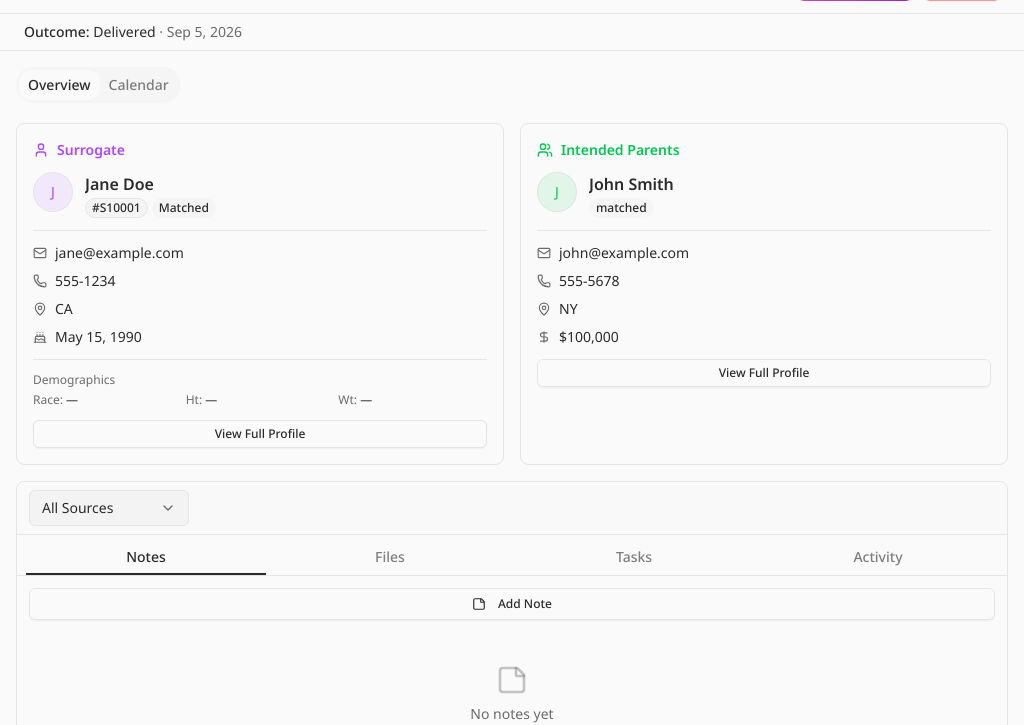
Test: MatchDetailPage › offers case work creation on a completed match for postpartum work
Check: the button "Add Note" is shown, box [29,588,995,620]
Click the tab "Files". click: (390, 557)
box: [270,542,510,572]
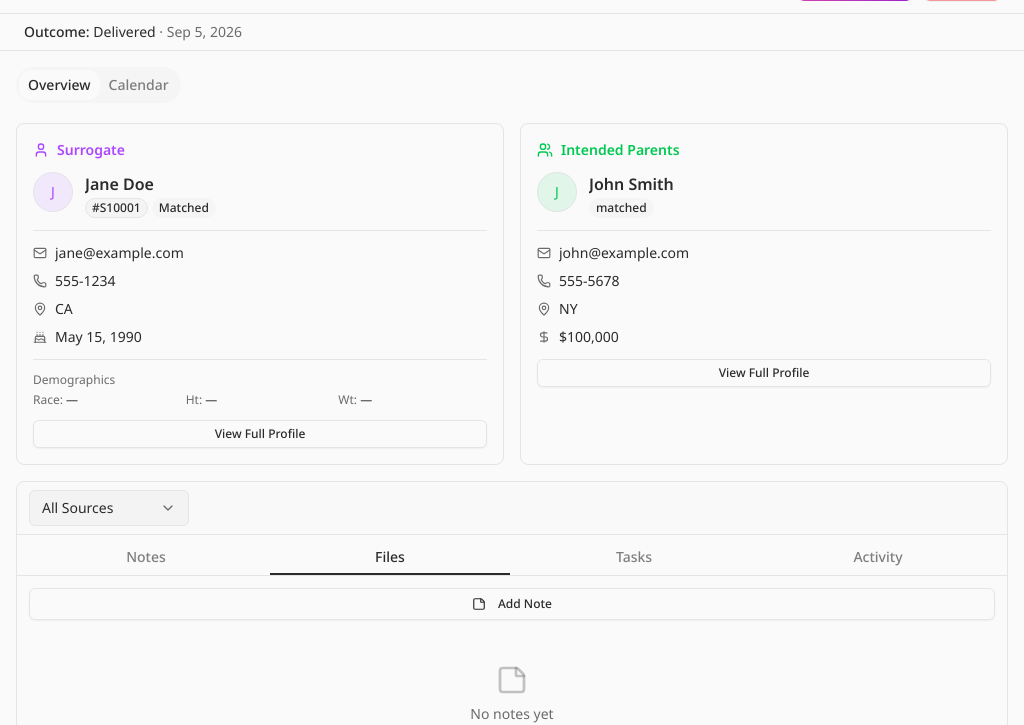
Click the tab "Tasks". click: (634, 557)
box: [514,542,754,572]
(page scrolled)
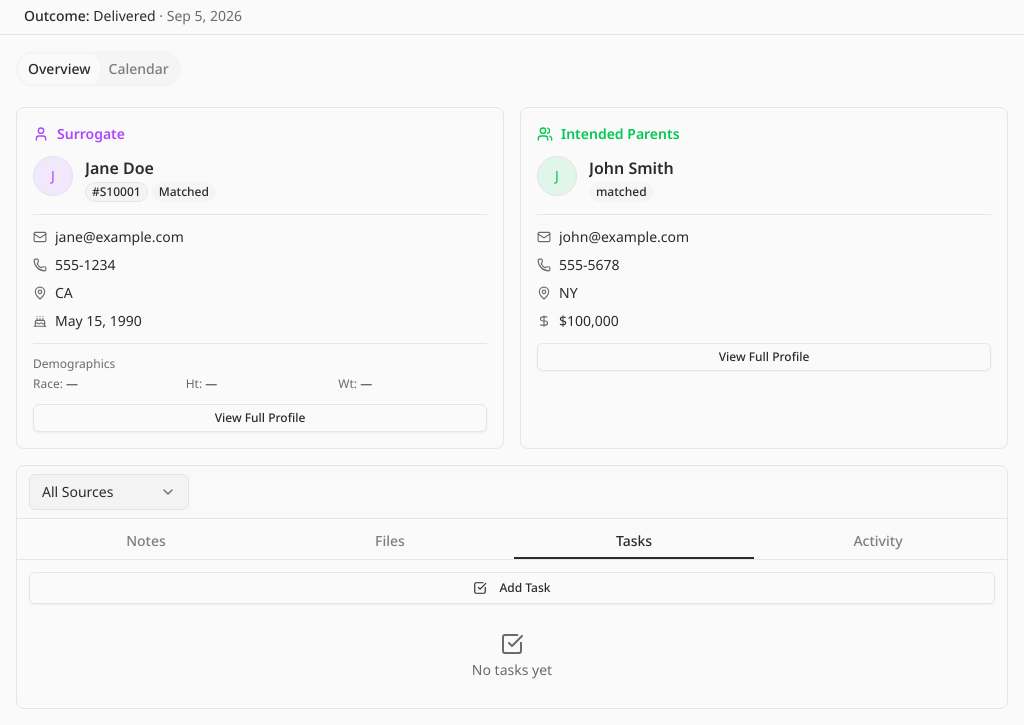
Check: the button "Add Task" is shown, box [29,572,995,604]
